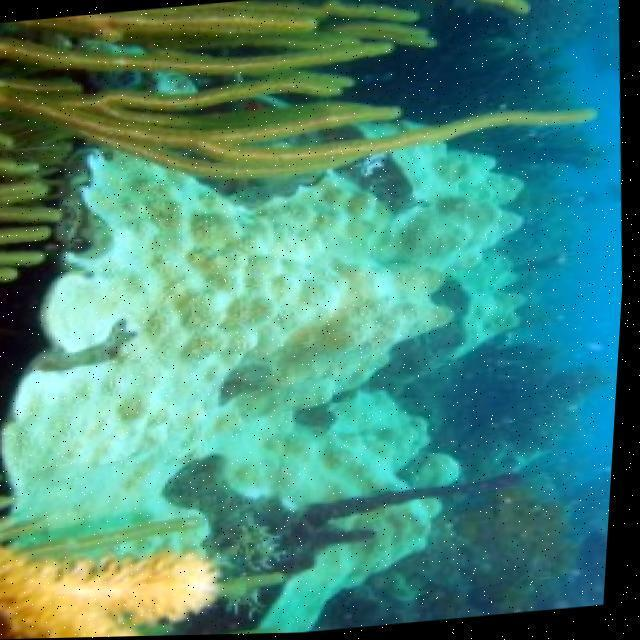Bleached Coral: (11, 159, 522, 536)
